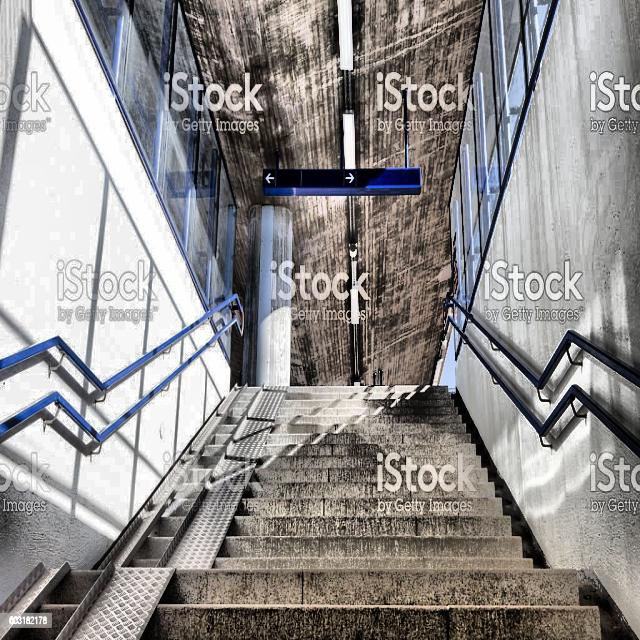escada: (284, 376, 600, 640)
